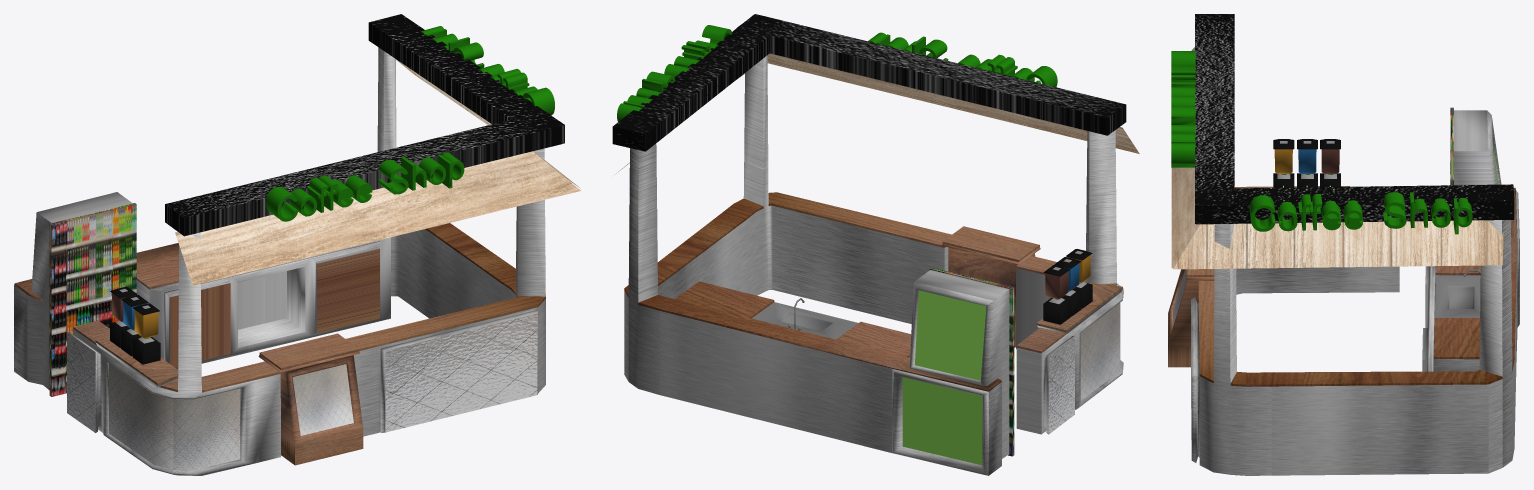
Rendered from cafe.obj.
3 renders of one model, left to right at view 1: azimuth 30°, elevation 25°; view 2: azimuth 150°, elevation 25°; view 3: azimuth 270°, elevation 25°, orthographic. The views are drawn at different scales.
Visible parts, largest first — view 1: Coffee_Shop, Box001; view 2: Coffee_Shop, Box001; view 3: Coffee_Shop.
Part boxes in pixels (left/top/right/bottom): Coffee_Shop: left=14, top=14, right=580, bottom=475; Box001: left=49, top=203, right=136, bottom=396; Coffee_Shop: left=612, top=14, right=1139, bottom=475; Box001: left=929, top=267, right=1014, bottom=456; Coffee_Shop: left=1168, top=14, right=1519, bottom=475.
Size of the model in its own units: 229 by 145 by 162.
11 materials, 10 textured.
